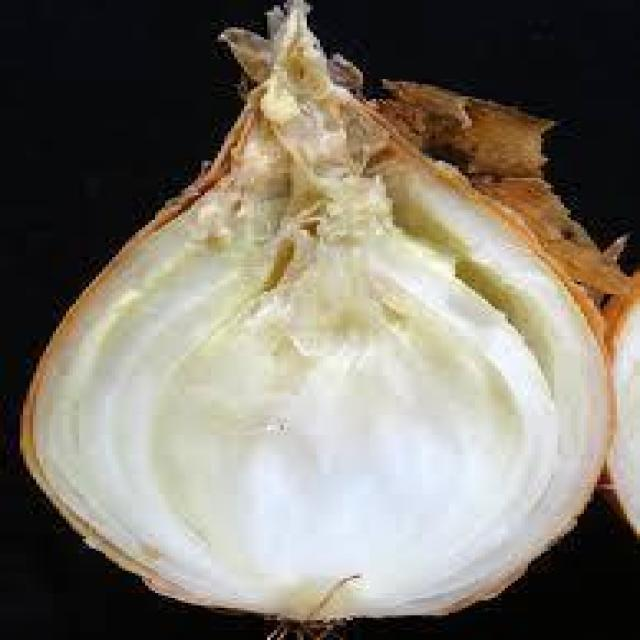Onion: (13, 0, 617, 640)
